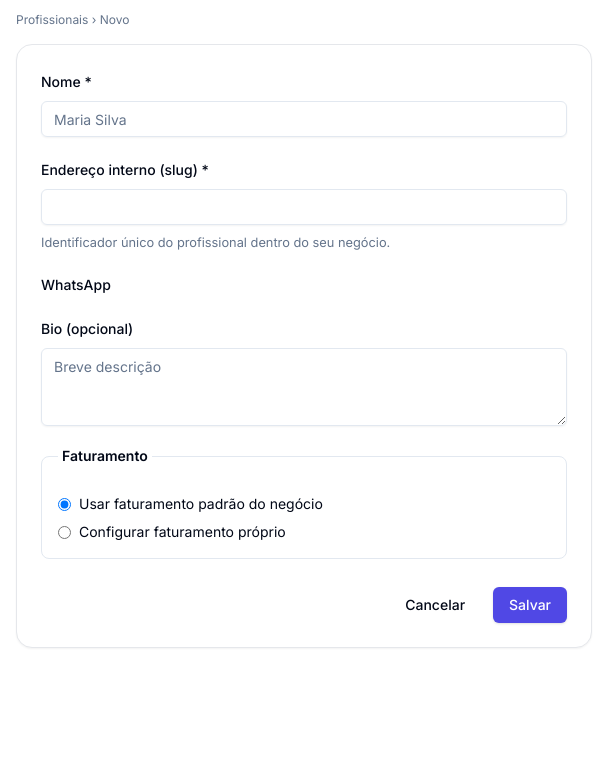
Test: ProfessionalForm › revela "faturamento próprio" sem crashar (regressão useFormField)
The width and height of the screenshot is (609, 770).
Click the radio button labelled "Configurar faturamento próprio" at {"x": 64, "y": 532}, box top-left (58, 526), bottom-right (71, 539)
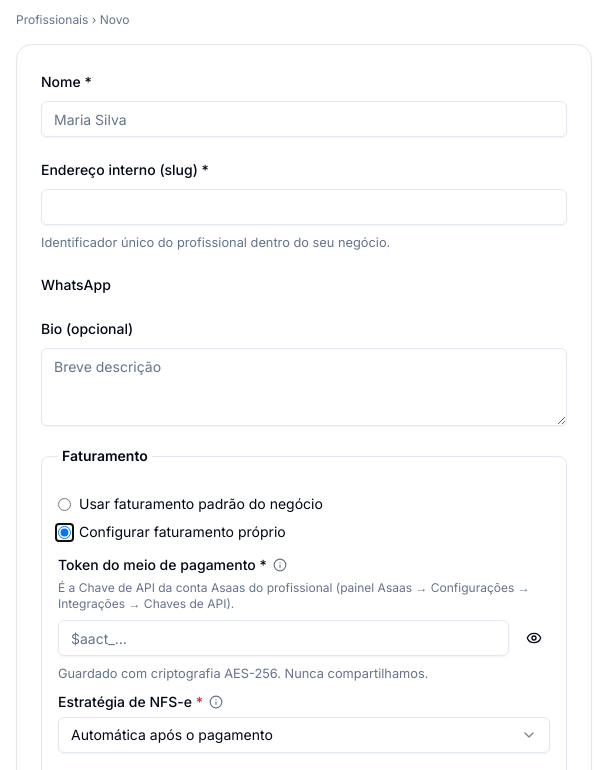
Expected: the text "Token do meio de pagamento *" is shown, top-left (58, 558), bottom-right (267, 572)
Expected: the text "É a Chave de API da conta Asaas" is shown, top-left (58, 580), bottom-right (530, 611)
